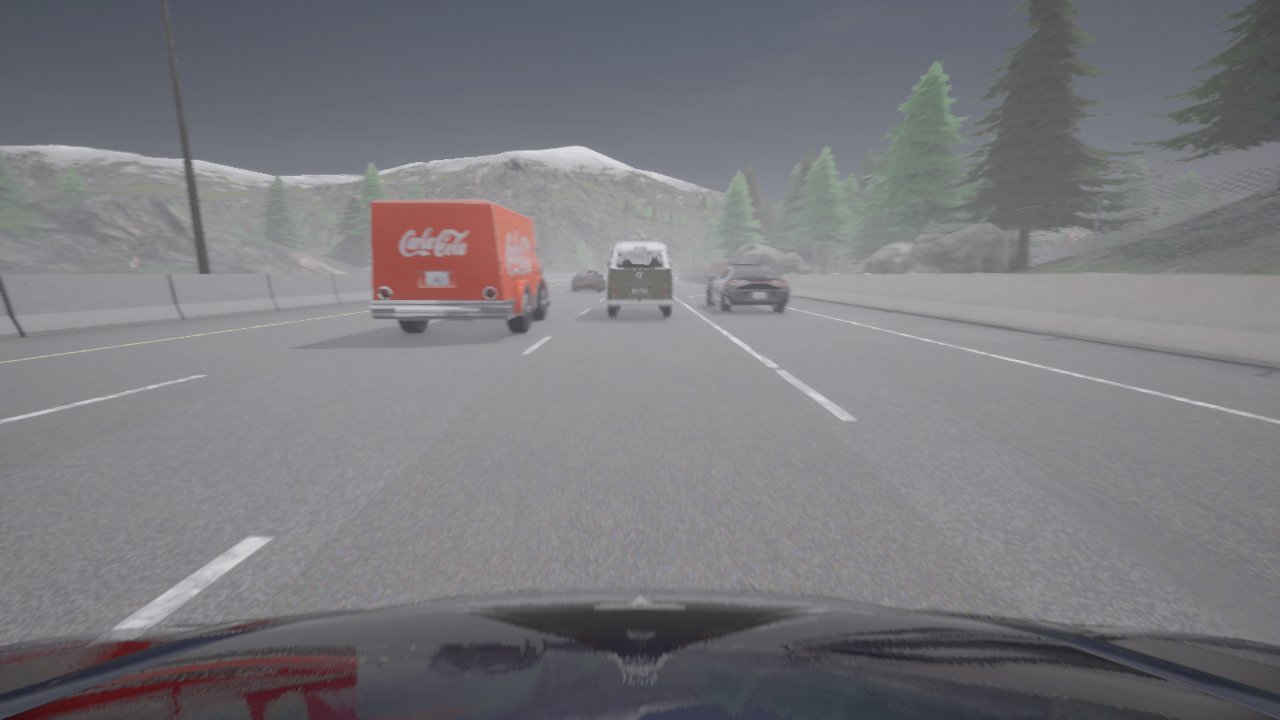cyclist: (0, 588, 1279, 719), (370, 200, 554, 333), (607, 242, 672, 316), (707, 263, 790, 312), (572, 271, 604, 291)
